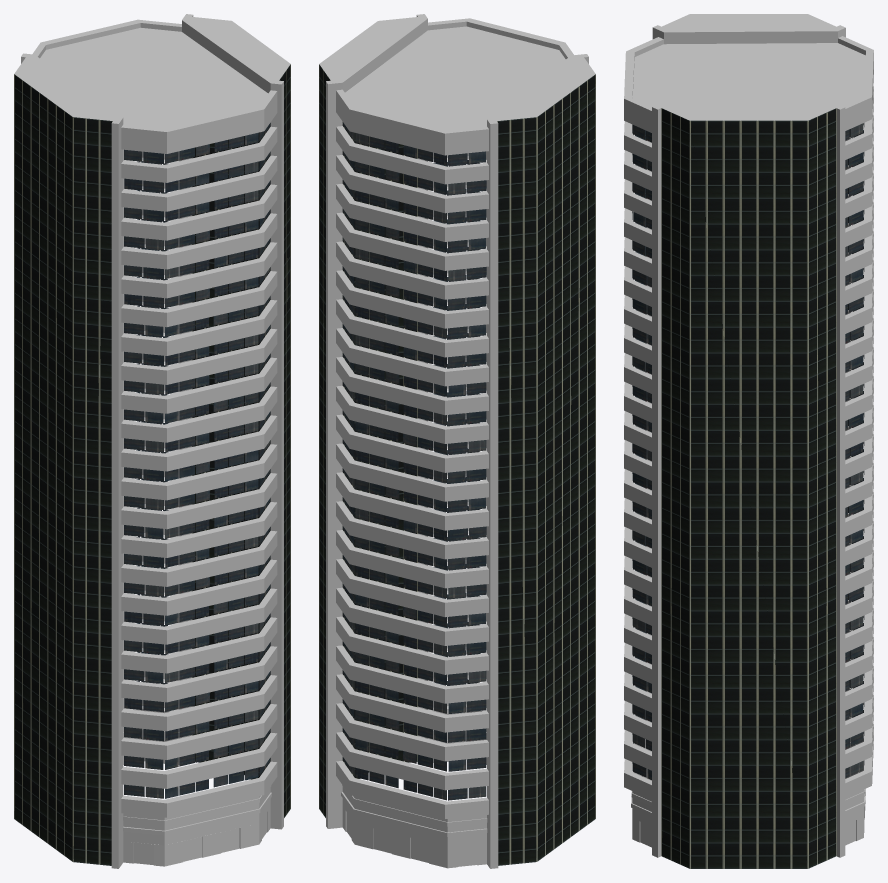
3 renders of one model, left to right at view 1: azimuth 30°, elevation 25°; view 2: azimuth 150°, elevation 25°; view 3: azimuth 270°, elevation 25°, orthographic.
Visible parts, largest first — view 1: BC-034; view 2: BC-034; view 3: BC-034.
Boxes of the visible parts, left/top/right/bottom form: BC-034: left=14, top=14, right=290, bottom=868; BC-034: left=319, top=14, right=595, bottom=868; BC-034: left=624, top=14, right=873, bottom=868.
Size of what is drawn, in the model's own units: 28.57 by 93.34 by 28.25.
